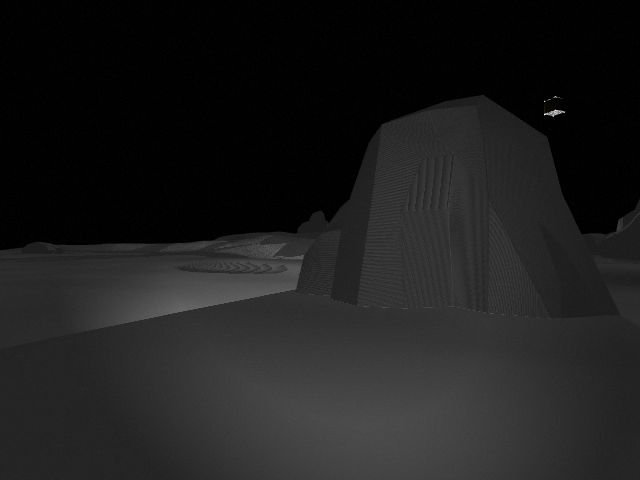cubesat: (540, 91, 568, 119)
